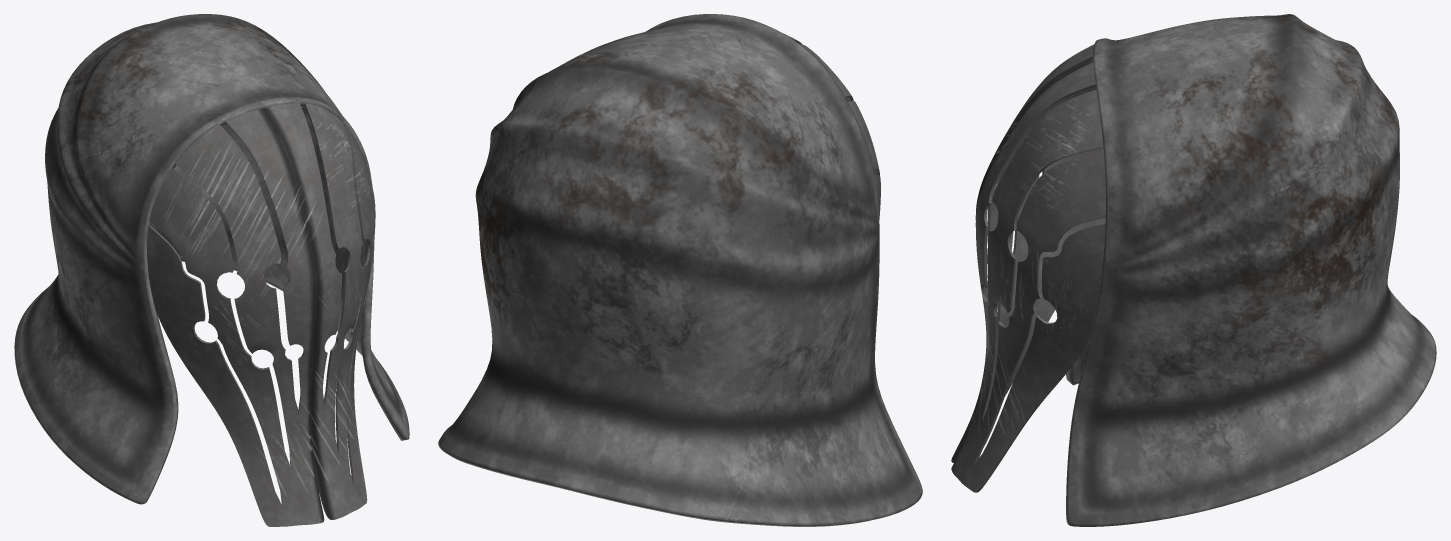
The model's file is Imlerith_Textured.fbx.
3 views of the same model, side by side, from view 1: azimuth 30°, elevation 25°; view 2: azimuth 150°, elevation 25°; view 3: azimuth 270°, elevation 25° (orthographic). The views are drawn at different scales.
Parts seen in each view (by area): view 1: Plane, Plane.001; view 2: Plane, Plane.001; view 3: Plane, Plane.001.
Boxes of the visible parts, x1,y1,x2,y2 form: Plane: (14,14,409,504); Plane.001: (147,103,375,526); Plane: (438,14,922,526); Plane.001: (783,33,880,219); Plane: (1066,14,1436,526); Plane.001: (951,44,1105,492).
Bounding box in the file's own units: 150 × 173 × 175.
